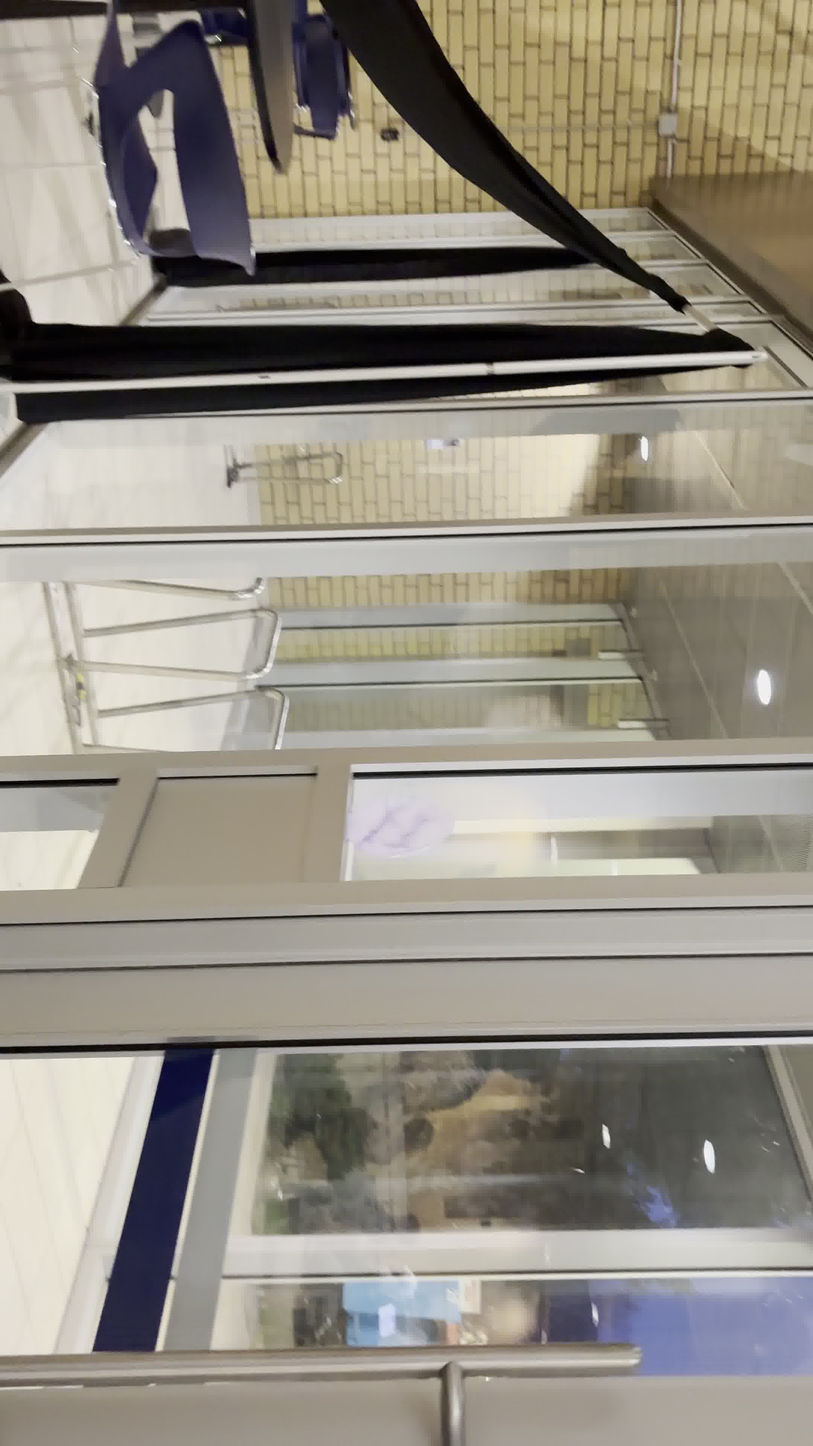Target: (343, 793, 457, 859)
